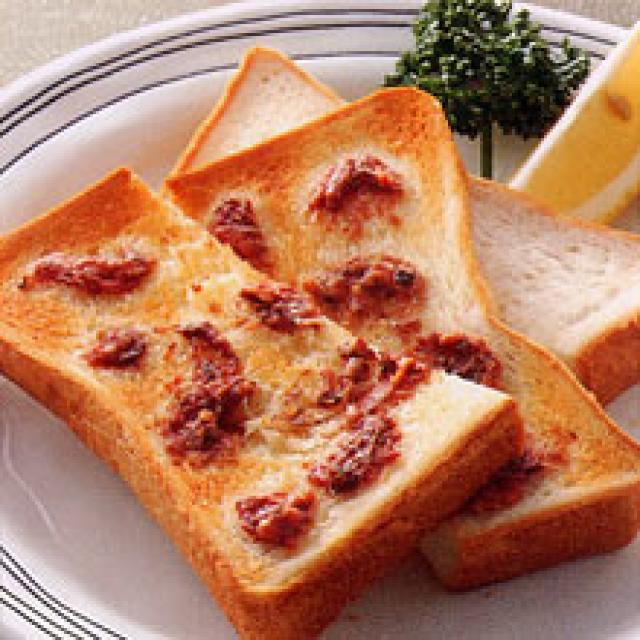面包点心: (0, 78, 640, 598)
